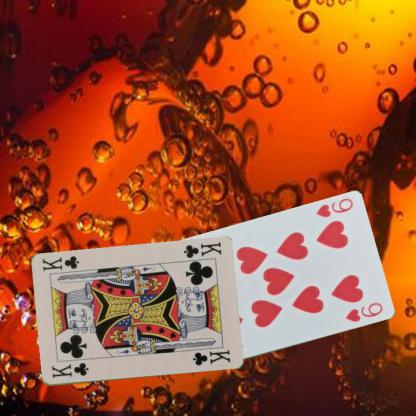9h: (313, 196, 354, 219)
Kc: (48, 360, 90, 379), (181, 240, 222, 259)
